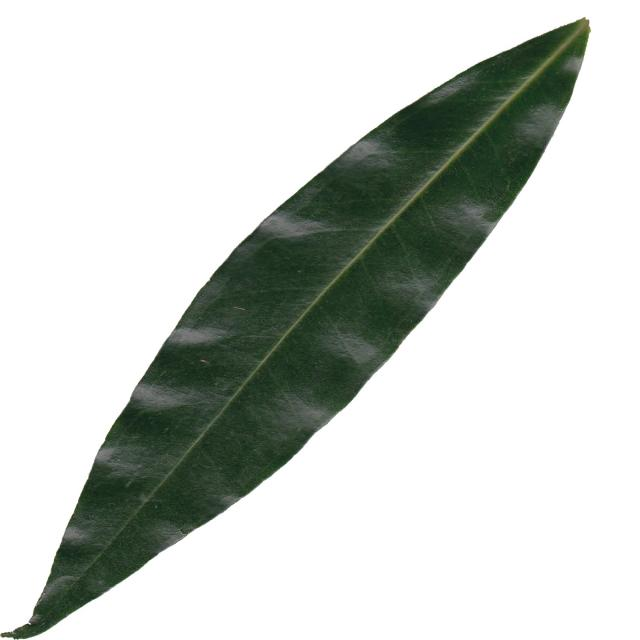Medicinal-Rose Apple: (0, 17, 593, 640)
